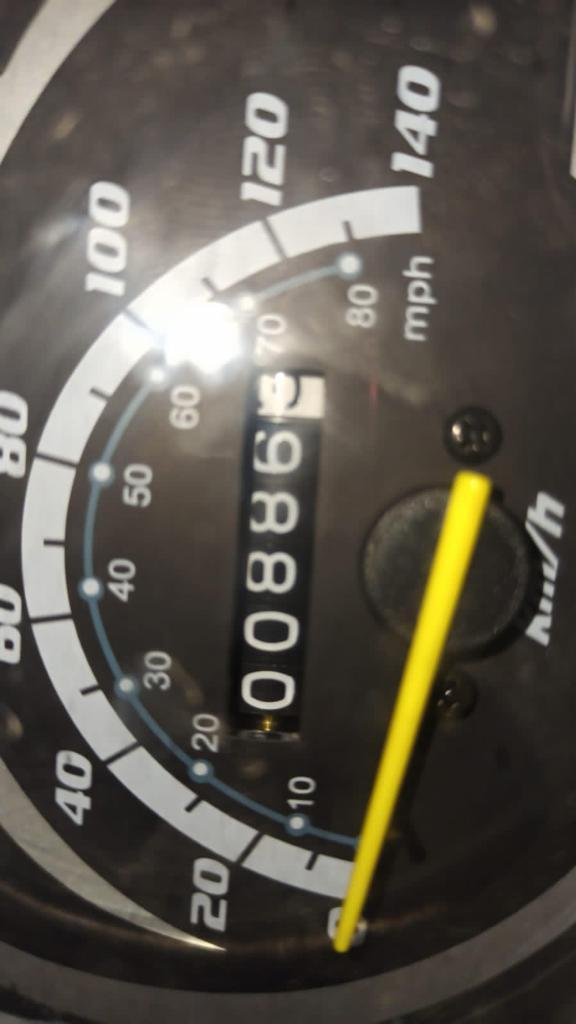0: (243, 607, 301, 653), (240, 669, 296, 711)
3: (254, 369, 299, 412)
6: (249, 429, 304, 475)
8: (244, 549, 297, 594), (250, 488, 297, 535)
odometer: (209, 355, 336, 750)
